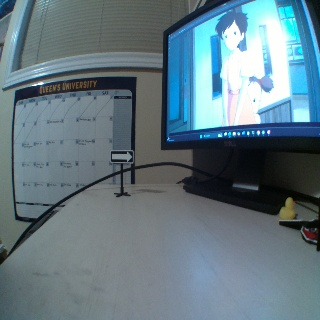sign_oneway_right: (110, 149, 133, 162)
